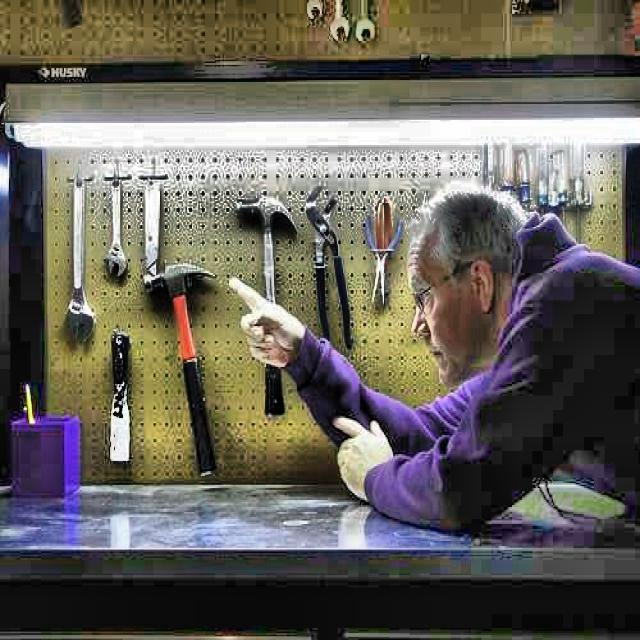hammer: (142, 260, 220, 477), (234, 185, 297, 415)
